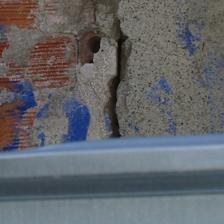Crack: (51, 12, 89, 128)
